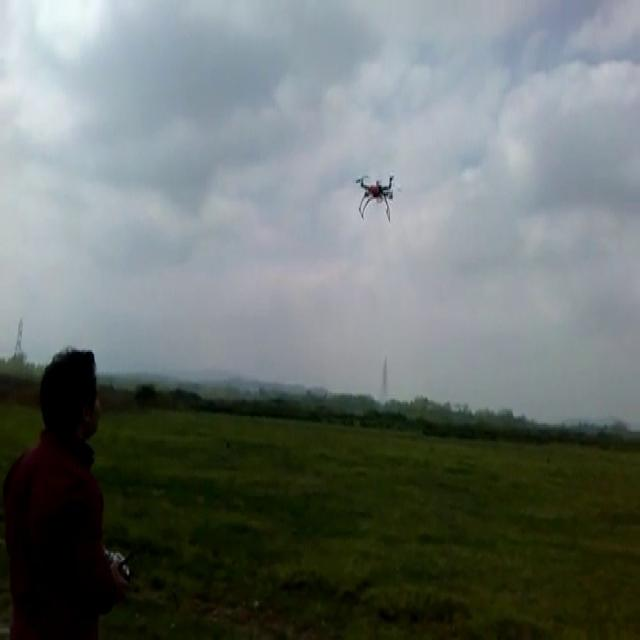drone: (353, 167, 401, 222)
